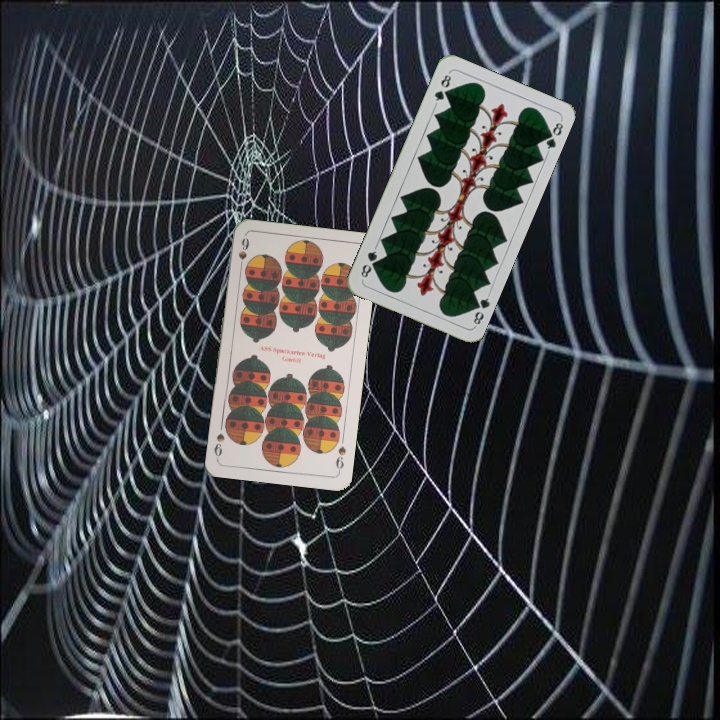G8: (468, 290, 493, 329), (430, 69, 454, 107)
S9: (234, 233, 252, 274), (332, 442, 349, 475)
